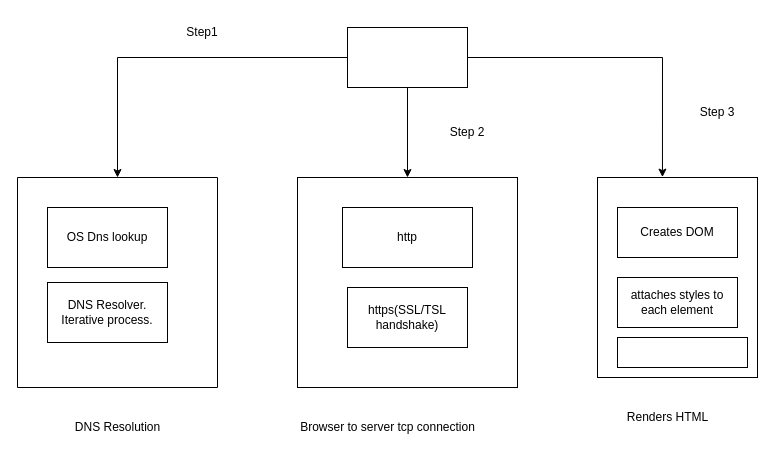
The diagram is 775 pixels wide and 459 high, and some of its shapes have lost their labels. The box of each missing label's shape, as (x1, y1, x2, y2) in pixels:
Browser: (346, 26, 468, 88)
executes javascript: (616, 336, 748, 368)
